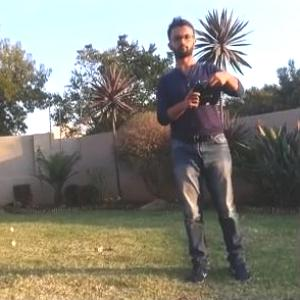follow: (154, 10, 260, 287)
